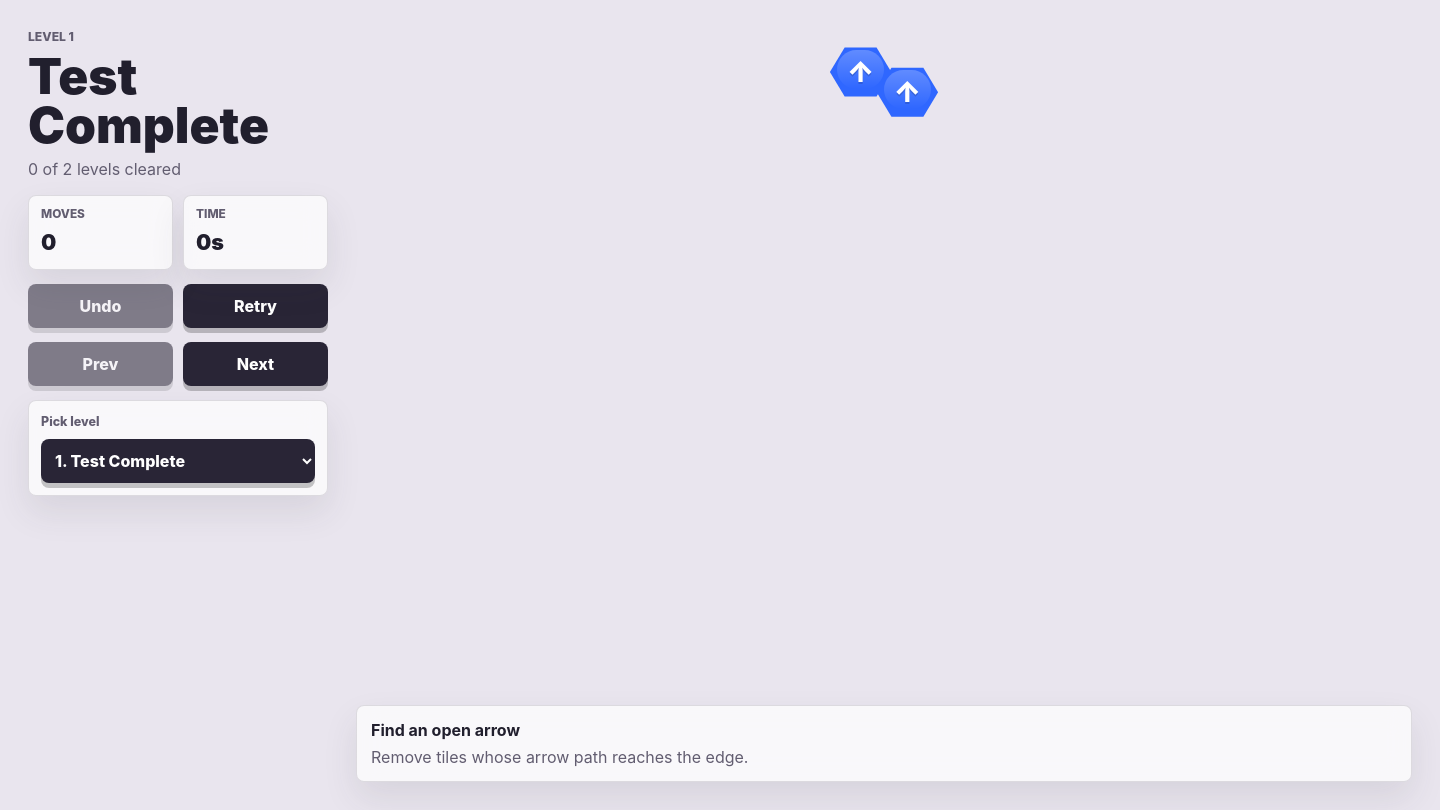
Test: GameScreen › undo_restores_the_previous_state
The image size is (1440, 810).
Click the button named "Tile test-a arrow up": (861, 72) top-left (830, 46), bottom-right (891, 98)
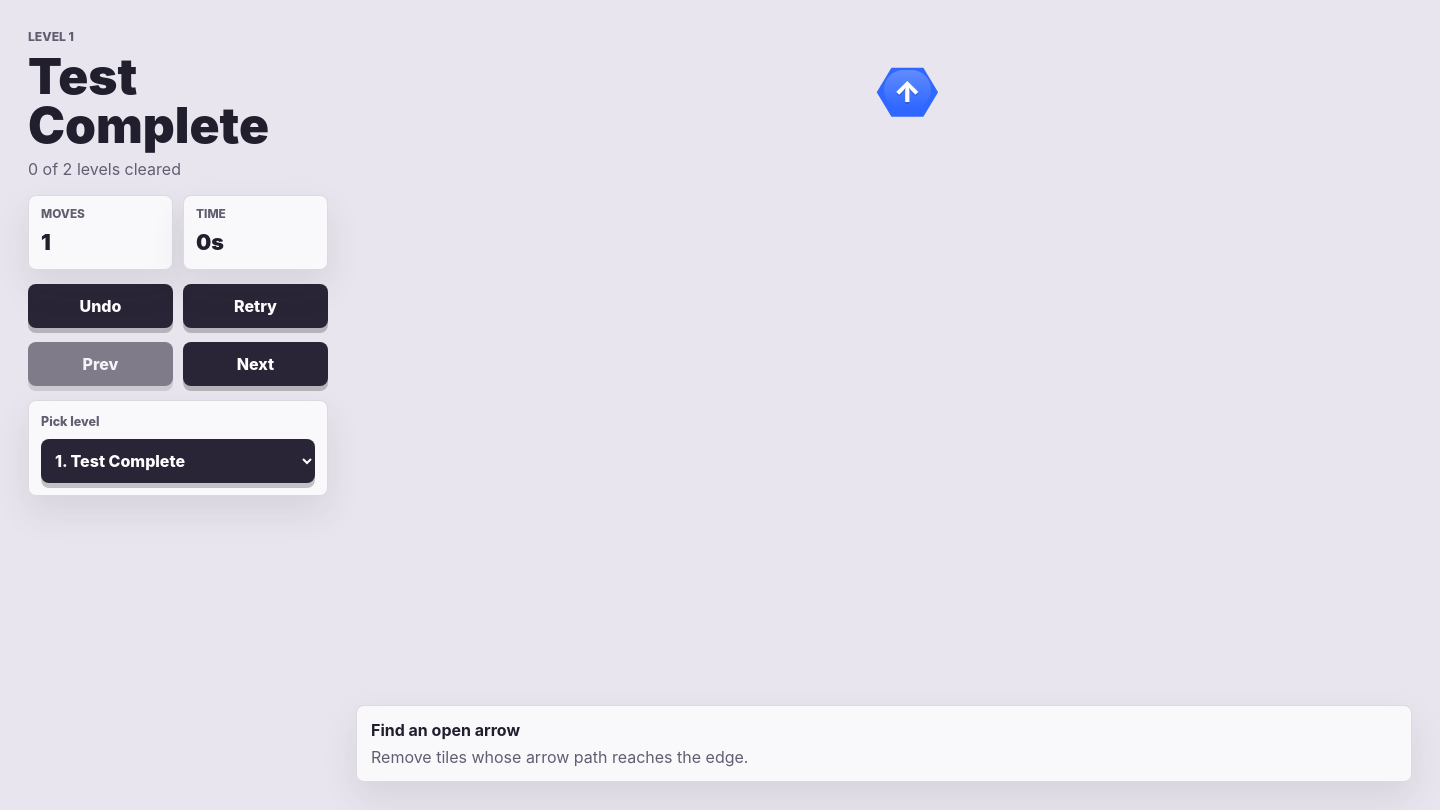
Click the button "Undo": (100, 306) top-left (28, 284), bottom-right (173, 328)
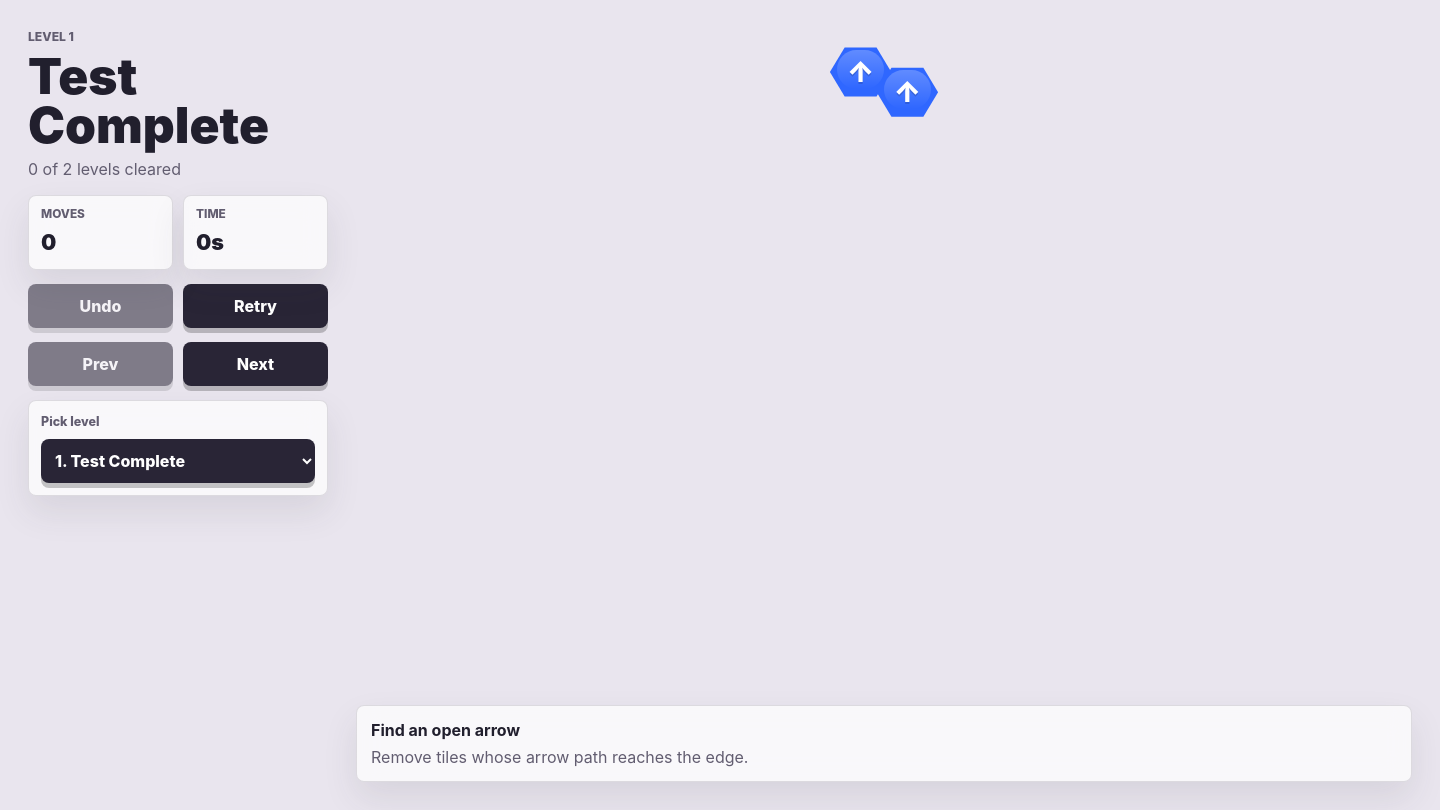
Check: the button named "Tile test-a arrow up" is shown, box top-left (830, 46), bottom-right (891, 98)
